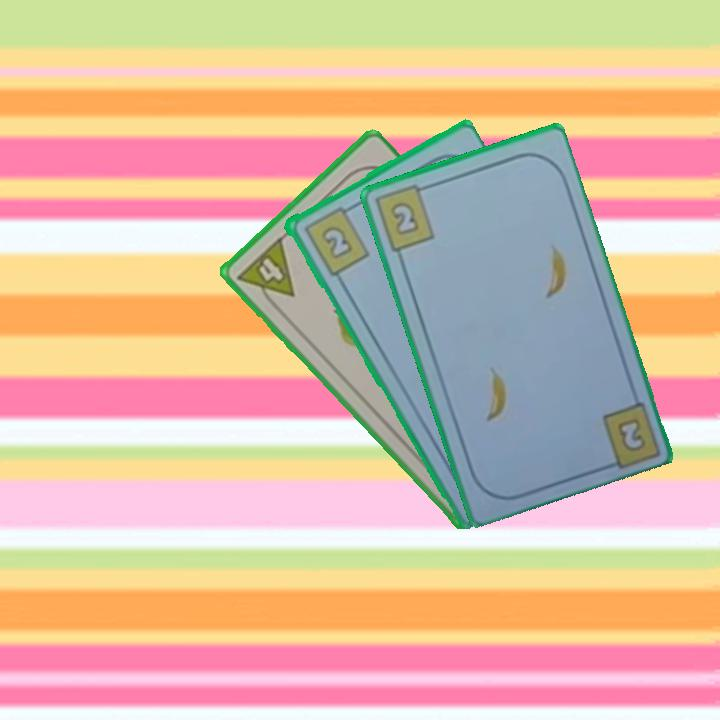2b: (299, 201, 372, 278), (371, 180, 437, 255), (613, 414, 649, 455)
4p: (233, 233, 298, 314)
